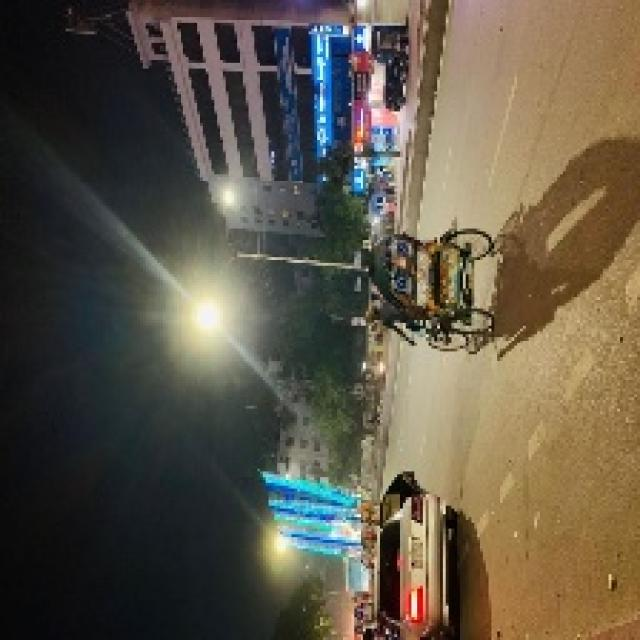car: (355, 480, 468, 635), (379, 27, 412, 114)
rickshaw: (370, 222, 503, 341)
